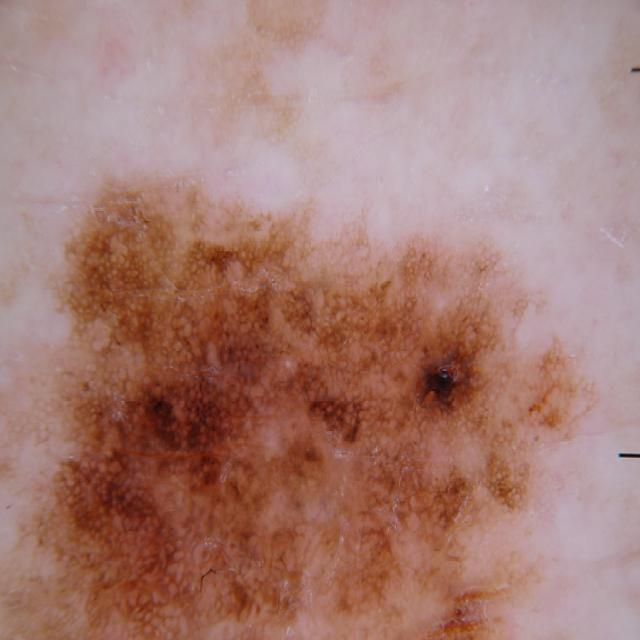Melanoma: (29, 149, 521, 640)
